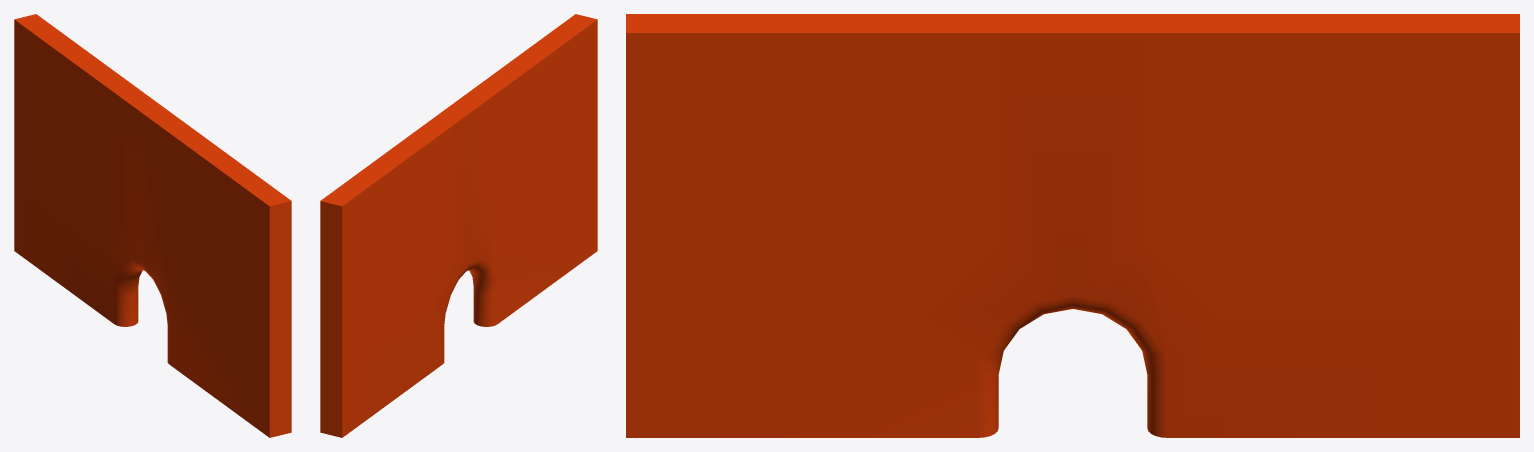
The model's file is CrouchHole.fbx.
3 views of the same model, side by side, from view 1: azimuth 30°, elevation 25°; view 2: azimuth 150°, elevation 25°; view 3: azimuth 270°, elevation 25° (orthographic). The views are drawn at different scales.
Visible parts, largest first — view 1: CrouchHole; view 2: CrouchHole; view 3: CrouchHole.
Boxes of the visible parts, <box> form: CrouchHole: <box>14,14,291,437</box>; CrouchHole: <box>320,14,597,437</box>; CrouchHole: <box>626,14,1519,437</box>.
Bounding box in the file's own units: 50 × 500 × 1000.
